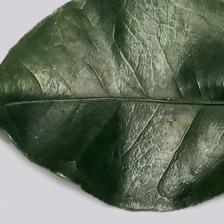healthy: (7, 7, 224, 195)
